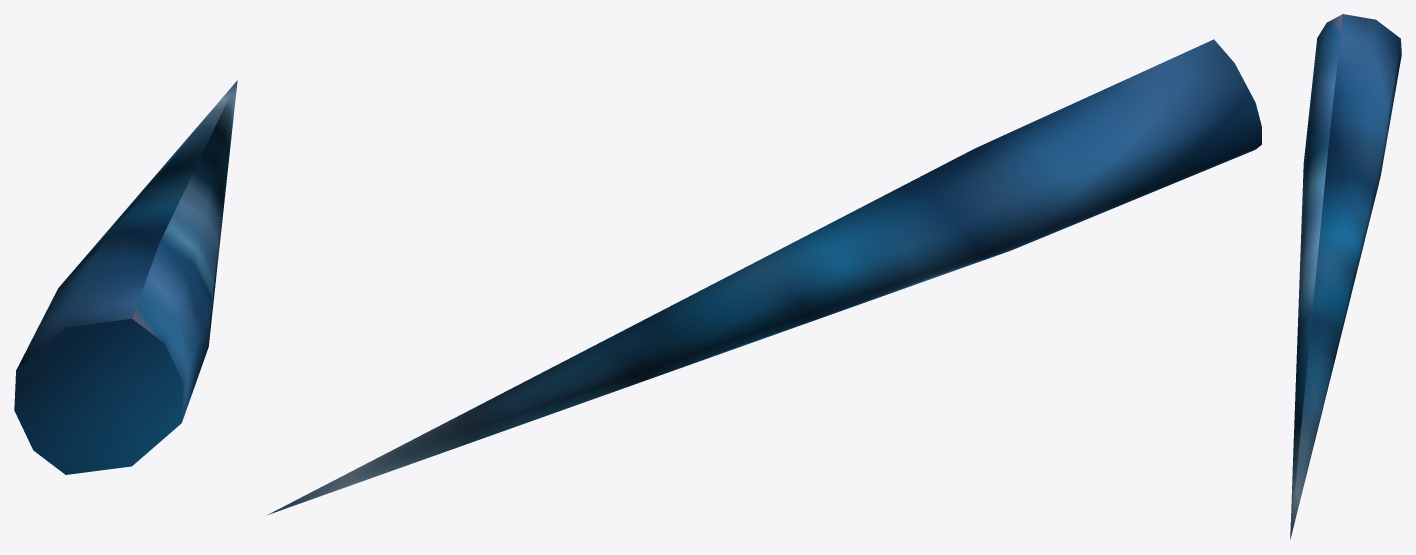
File: gorilla_tag_icicle.glb
3 views of the same model, side by side, from view 1: azimuth 90°, elevation 25°; view 2: azimuth 210°, elevation 25°; view 3: azimuth 270°, elevation 25° (orthographic). The views are drawn at different scales.
Visible parts, largest first — view 1: ICICLE; view 2: ICICLE; view 3: ICICLE.
Part boxes in pixels (x1,y1,x2,y2): ICICLE: (14,80,237,474); ICICLE: (267,39,1261,515); ICICLE: (1290,14,1401,539).
Size of what is drawn, in the model's own units: 0.298 by 0.0857 by 0.0425.
Materials: 1 (1 with a texture image).
